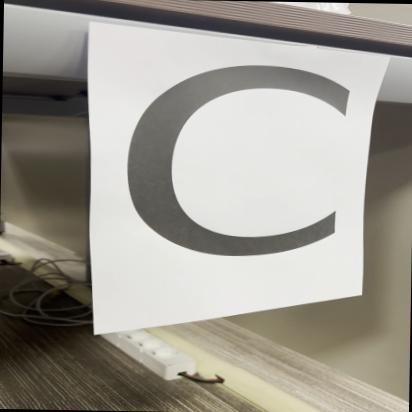seat: (98, 38, 365, 294)
